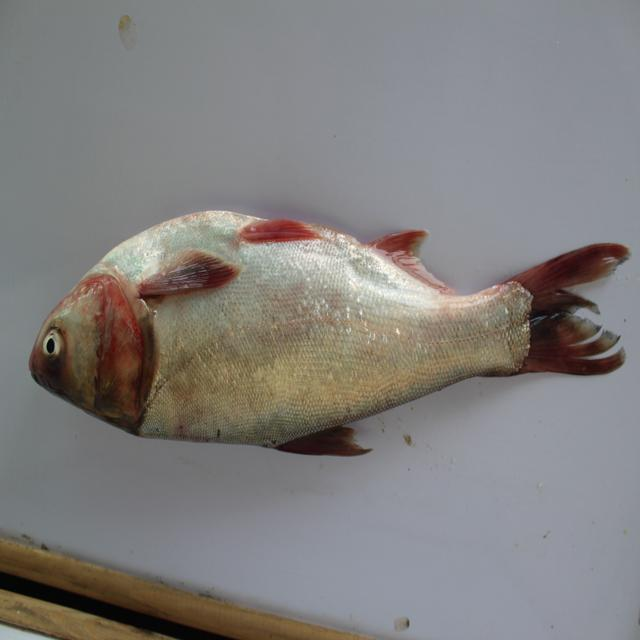SilverCarp: (27, 189, 631, 459)
